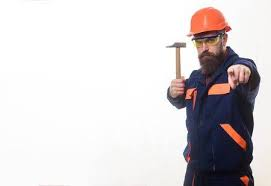Person_wearing_helmet: (183, 5, 237, 46)
